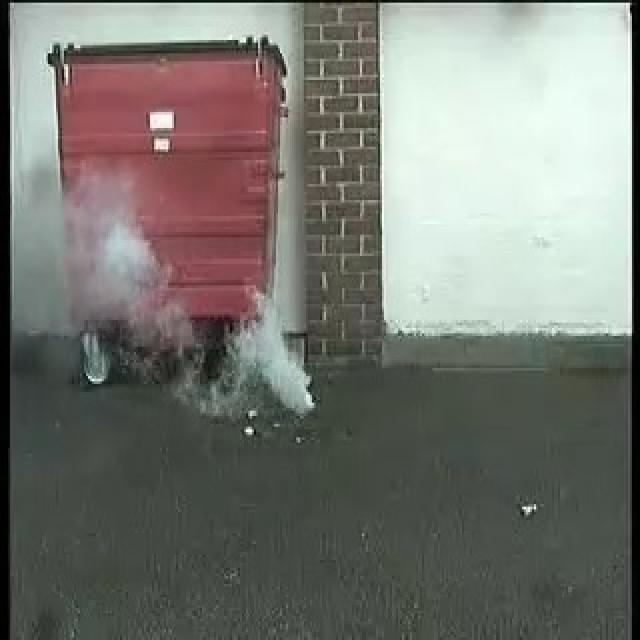smoke: (68, 192, 313, 417)
